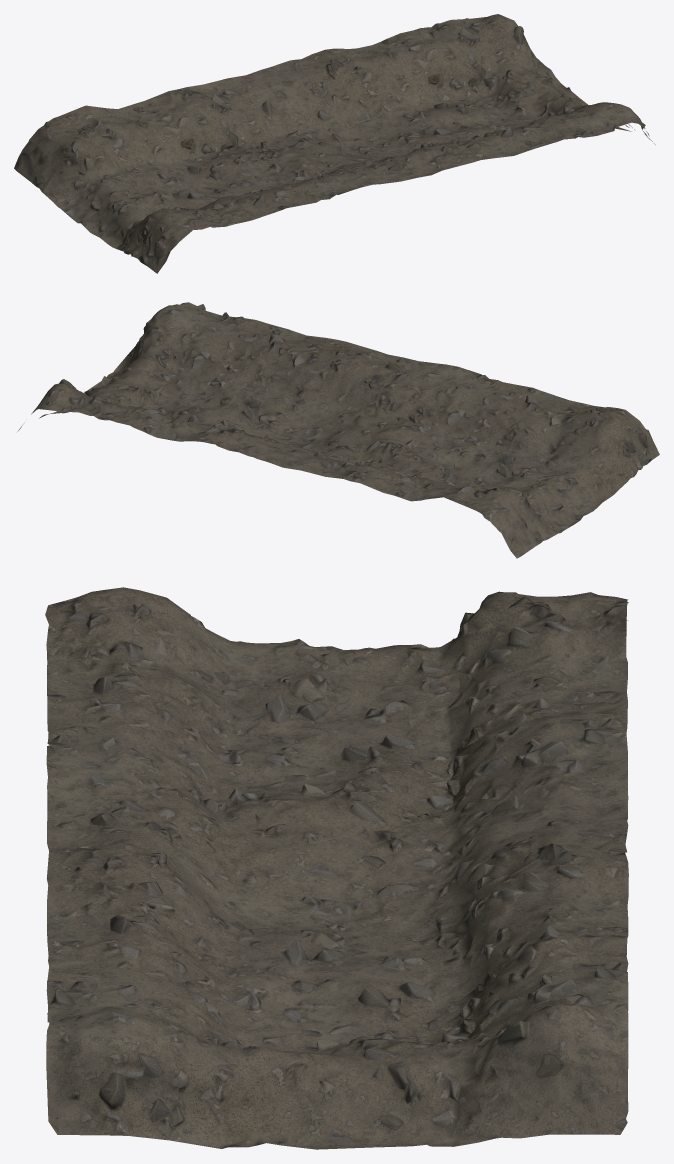
The model's file is SM_GroundMudRough_4x8_02.glb.
3 renders of one model, top to bottom at view 1: azimuth 30°, elevation 25°; view 2: azimuth 150°, elevation 25°; view 3: azimuth 270°, elevation 25°, orthographic. The views are drawn at different scales.
Parts seen in each view (by area): view 1: SM_GroundMudRough_4x8_02; view 2: SM_GroundMudRough_4x8_02; view 3: SM_GroundMudRough_4x8_02.
Part boxes in pixels (x1=…): SM_GroundMudRough_4x8_02: x1=14, y1=14, x2=655, y2=273; SM_GroundMudRough_4x8_02: x1=18, y1=302, x2=659, y2=558; SM_GroundMudRough_4x8_02: x1=45, y1=587, x2=628, y2=1149.
Bounding box in the file's own units: 8.08 × 0.8599 × 4.01.
1 material, 1 textured.
